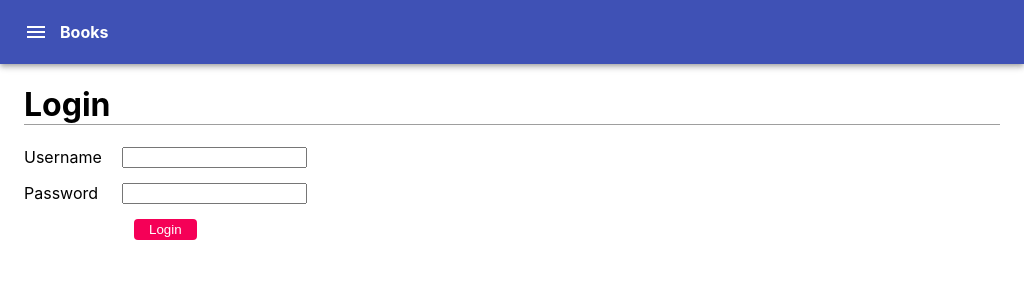
Scenario: Login › should fail without password
Type "tanja" into the field with id "username" at [215, 158], box [122, 147, 307, 168]
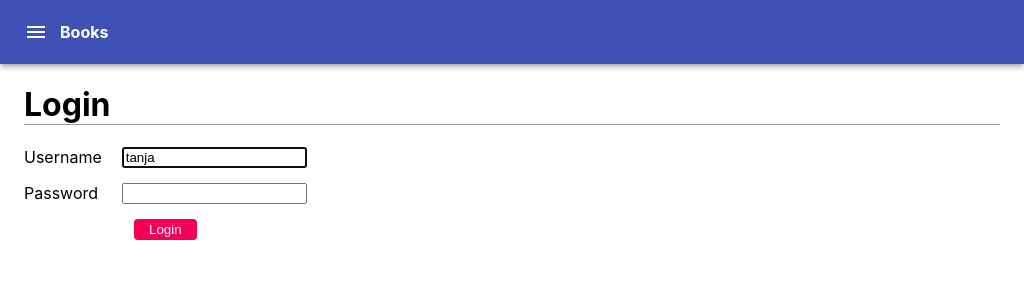
Click the button with class "login-button" at [166, 230], box [134, 219, 197, 240]
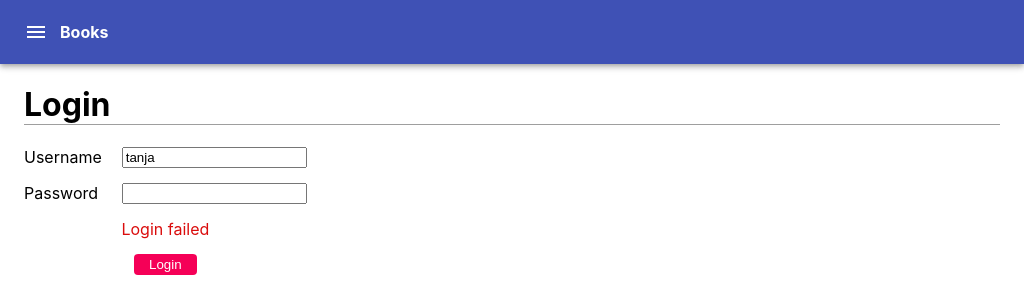
Now the text "Login failed" is shown, box [122, 219, 209, 239]
